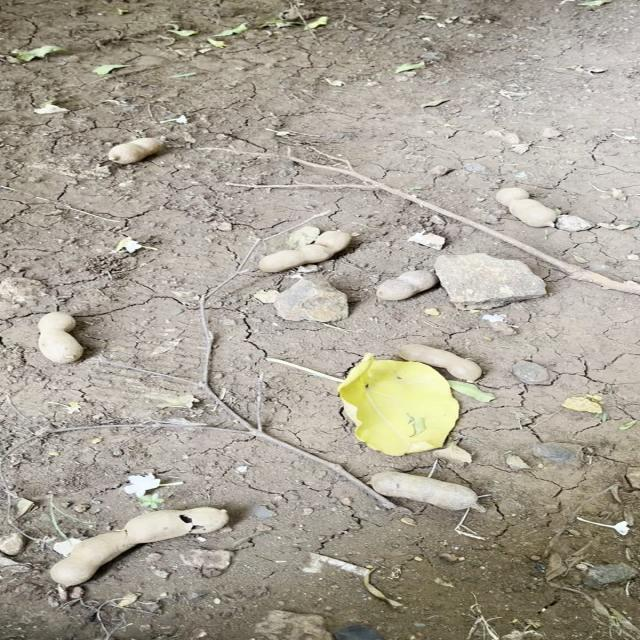tamarind: (43, 504, 232, 589), (363, 468, 492, 514), (254, 230, 352, 270), (398, 344, 483, 380), (32, 311, 84, 365), (496, 187, 561, 228), (377, 270, 435, 304), (104, 139, 161, 167)
